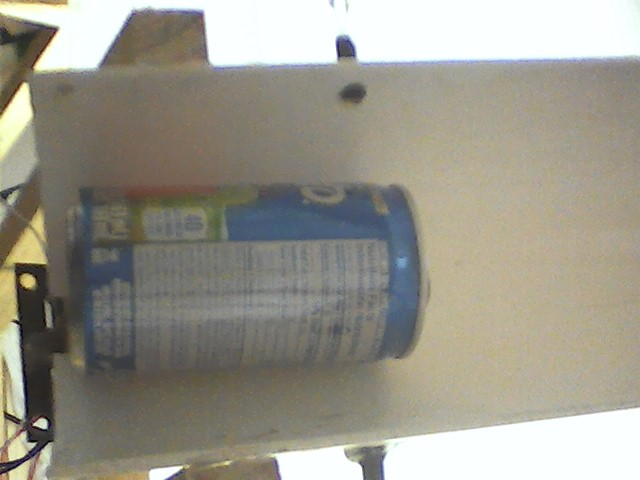lata: (60, 180, 437, 379)
